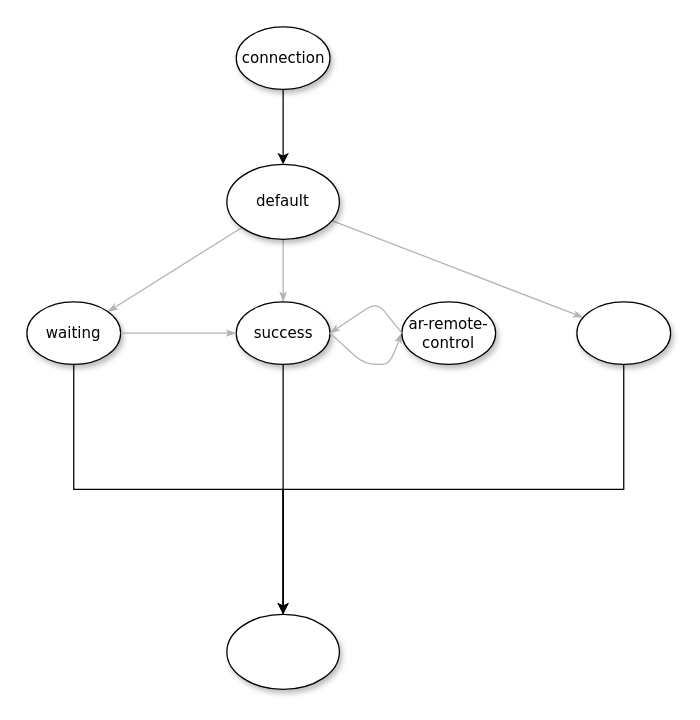
The diagram is 700 pixels wide and 720 high, and some of its shapes have lost their labels. Here are the shapes that lost their labels. From the top down, the centre of each, then its label:
At point (624, 334): "terminate".
At point (284, 653): "disconnect".
